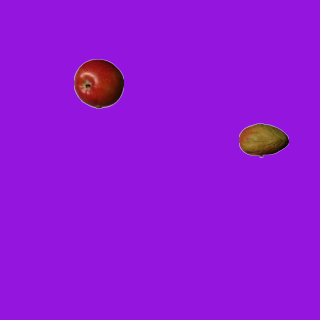Apple Braeburn: (73, 58, 123, 108)
Papaya: (238, 115, 288, 165)
